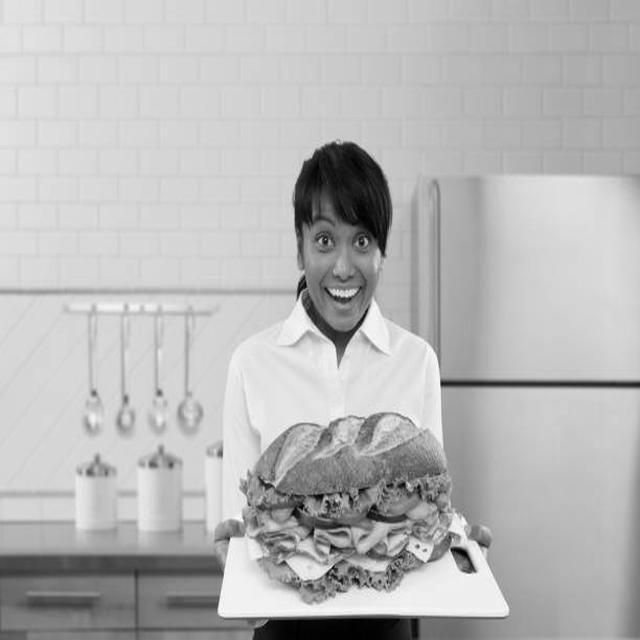Surprised: (303, 180, 383, 331)
